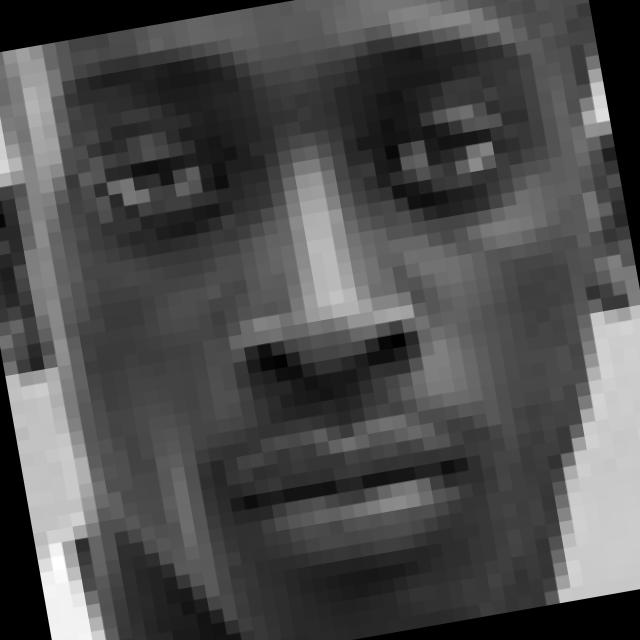neutral: (52, 0, 621, 619)
